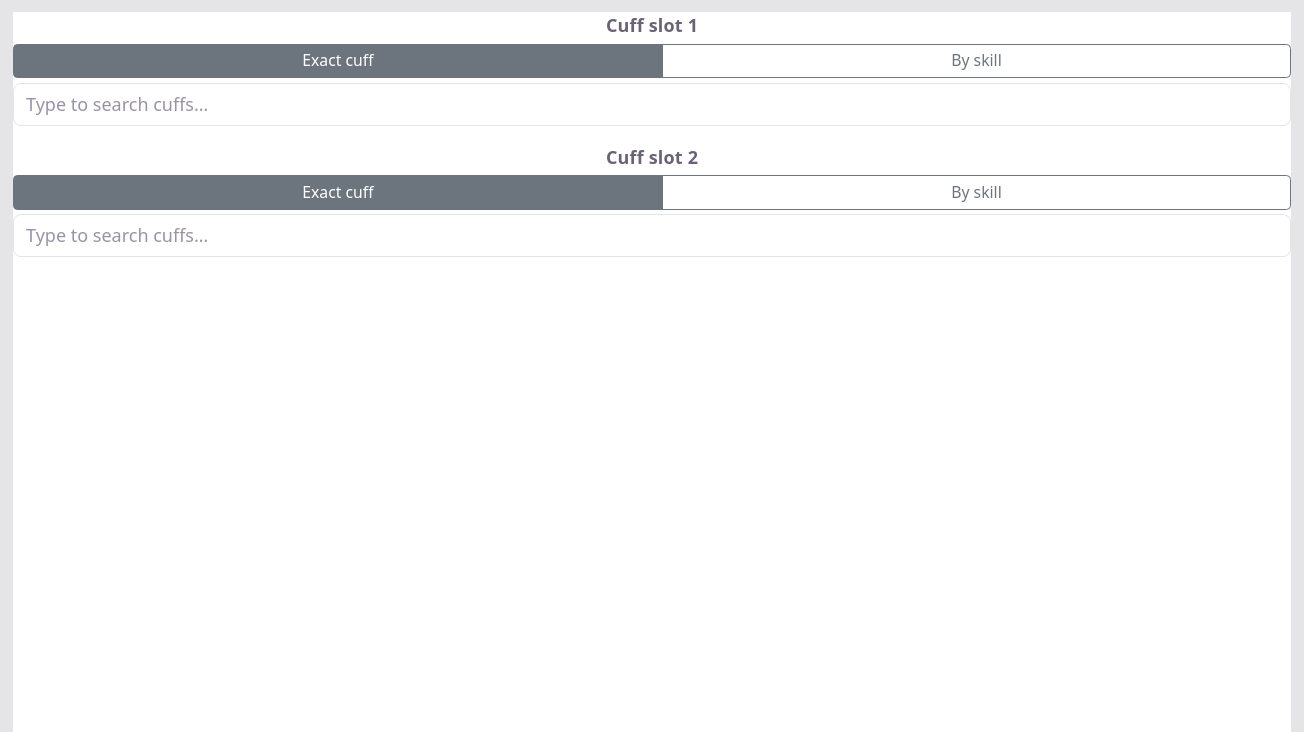
Scenario: CuffPicker › matches a cuff by one of its granted skill's tier labels, not just its own name (2026-10-20: this search extension hadn't reached CuffPicker yet)
Type "iron wall" into the field named "Search cuffs for Cuff slot 1" at (652, 104), box [13,83,1291,126]
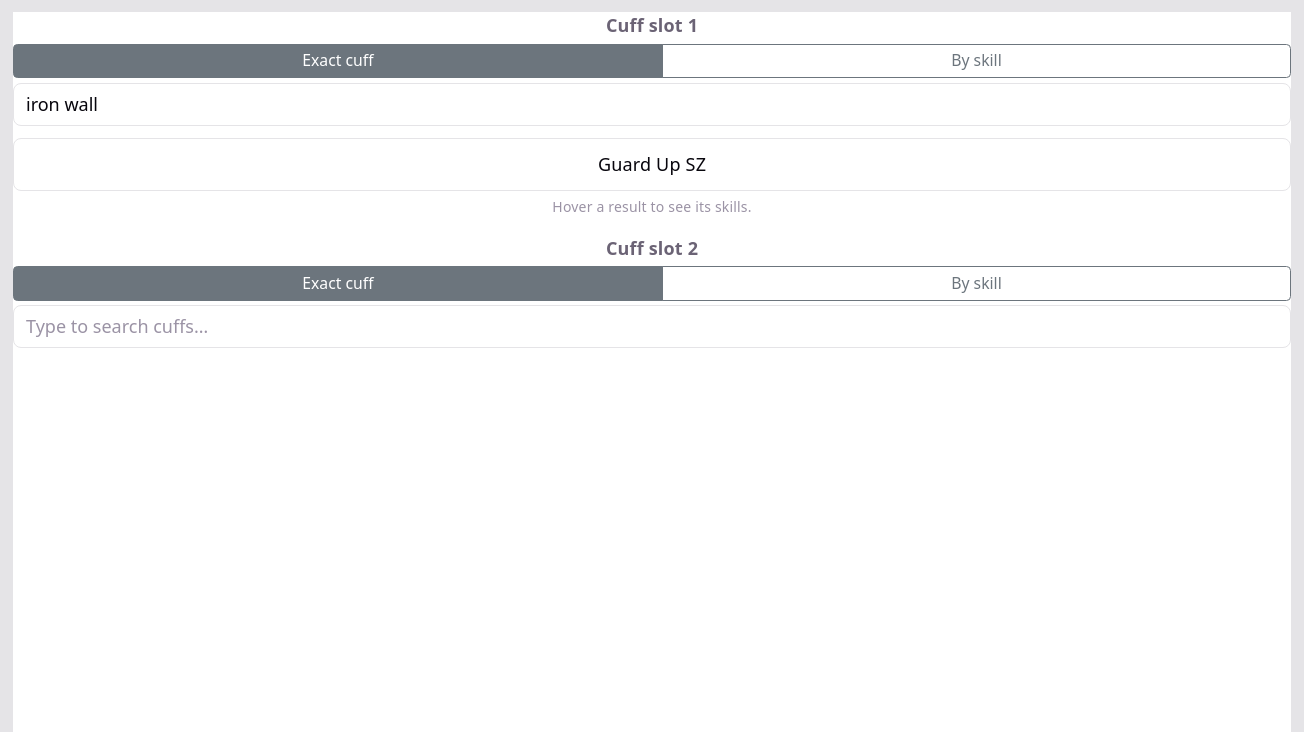
Expected: the number of options is 1, [598,152,706,176]
Expected: the option reads "Guard Up SZ", [598,152,706,176]
